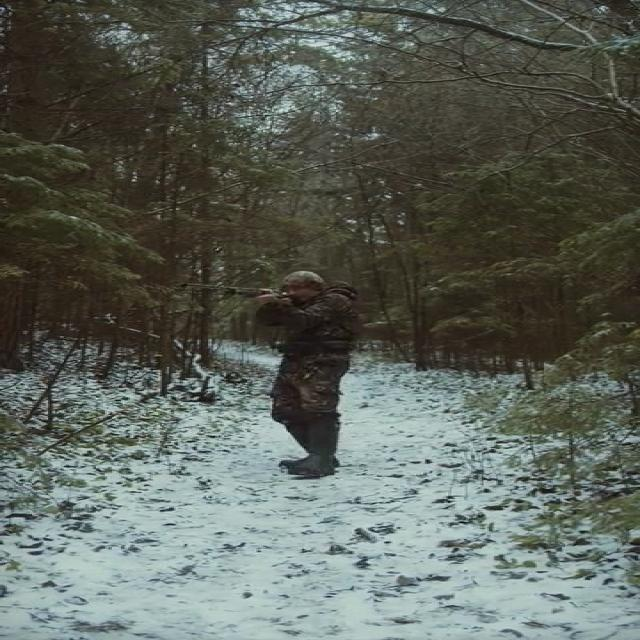Gun_Holder: (171, 278, 294, 309)
Person: (255, 264, 367, 472)
